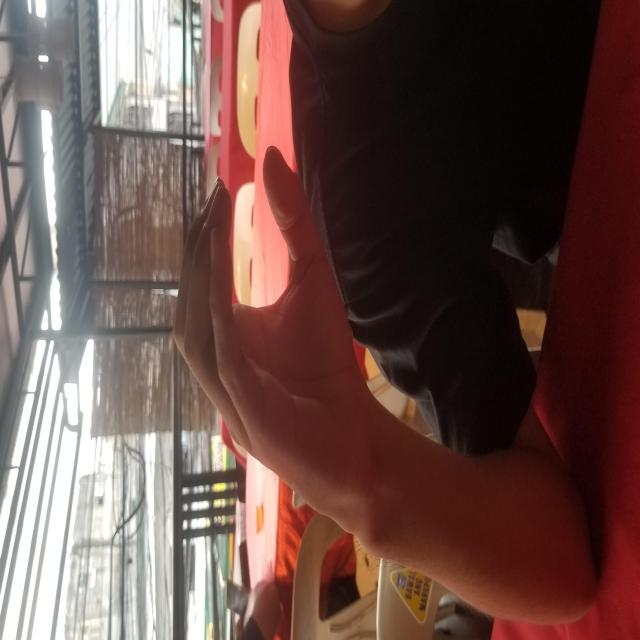C: (109, 114, 492, 536)
